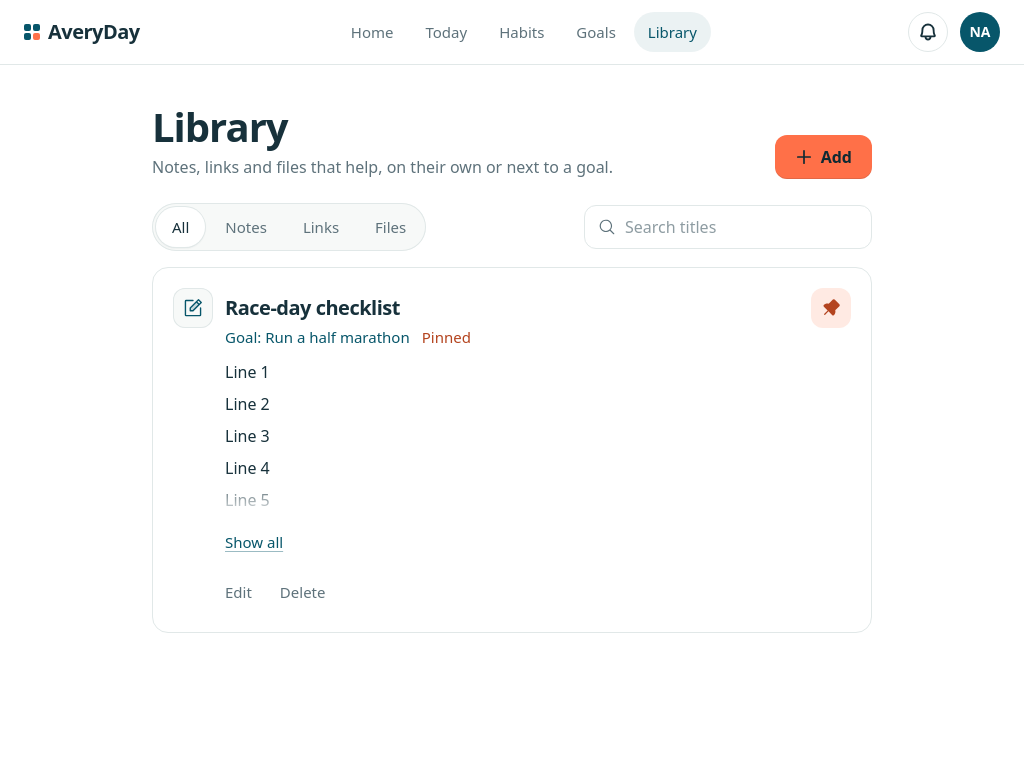
Test: library › folds a long note until asked
The width and height of the screenshot is (1024, 768).
Click the button "Show all" at (254, 542), box [225,524,283,560]
(page scrolled)
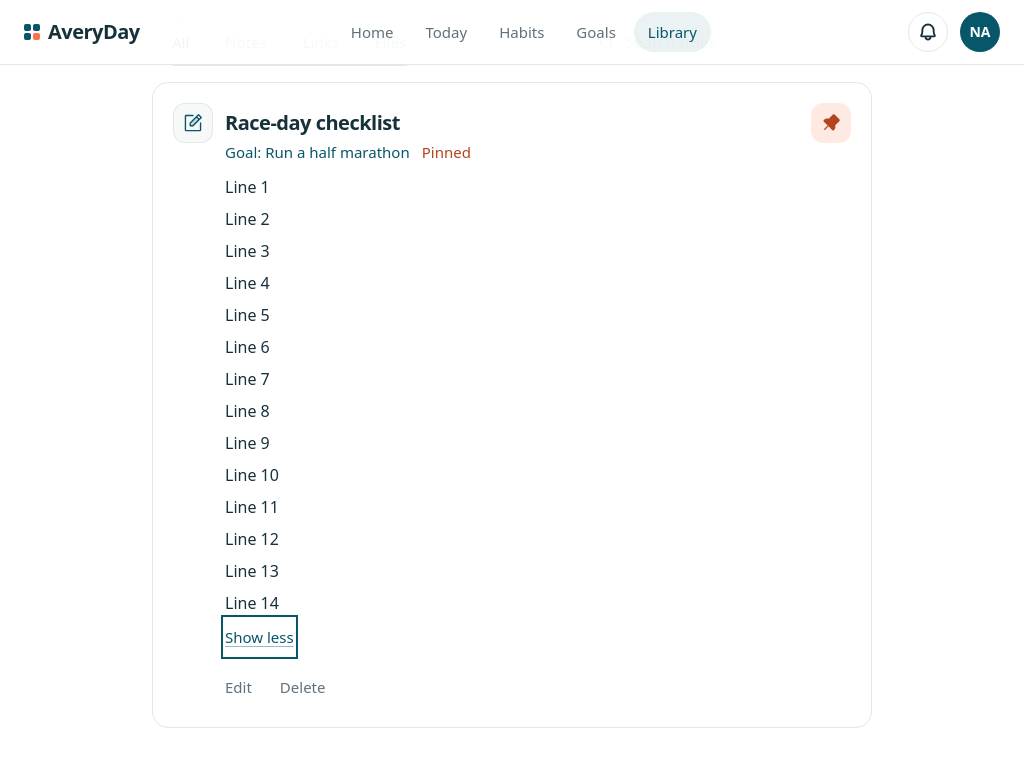
expect the button "Show less" is expanded: met, box [225,619,294,655]
